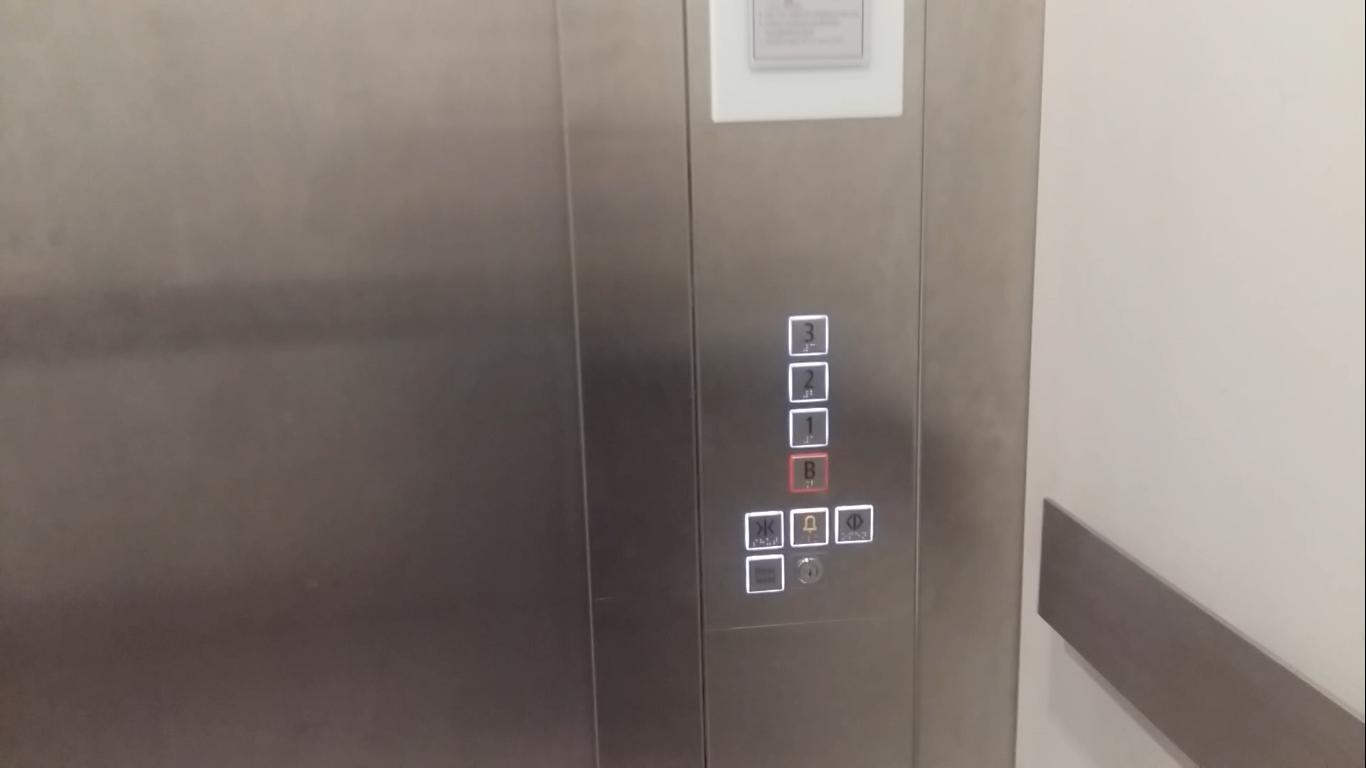1: (786, 405, 830, 447)
2: (785, 358, 830, 406)
3: (784, 311, 830, 358)
B: (785, 450, 830, 491)
alarm: (787, 502, 830, 549)
blur: (741, 550, 785, 594)
close: (742, 507, 786, 551)
keyhole: (794, 555, 823, 585)
open: (832, 501, 875, 545)
